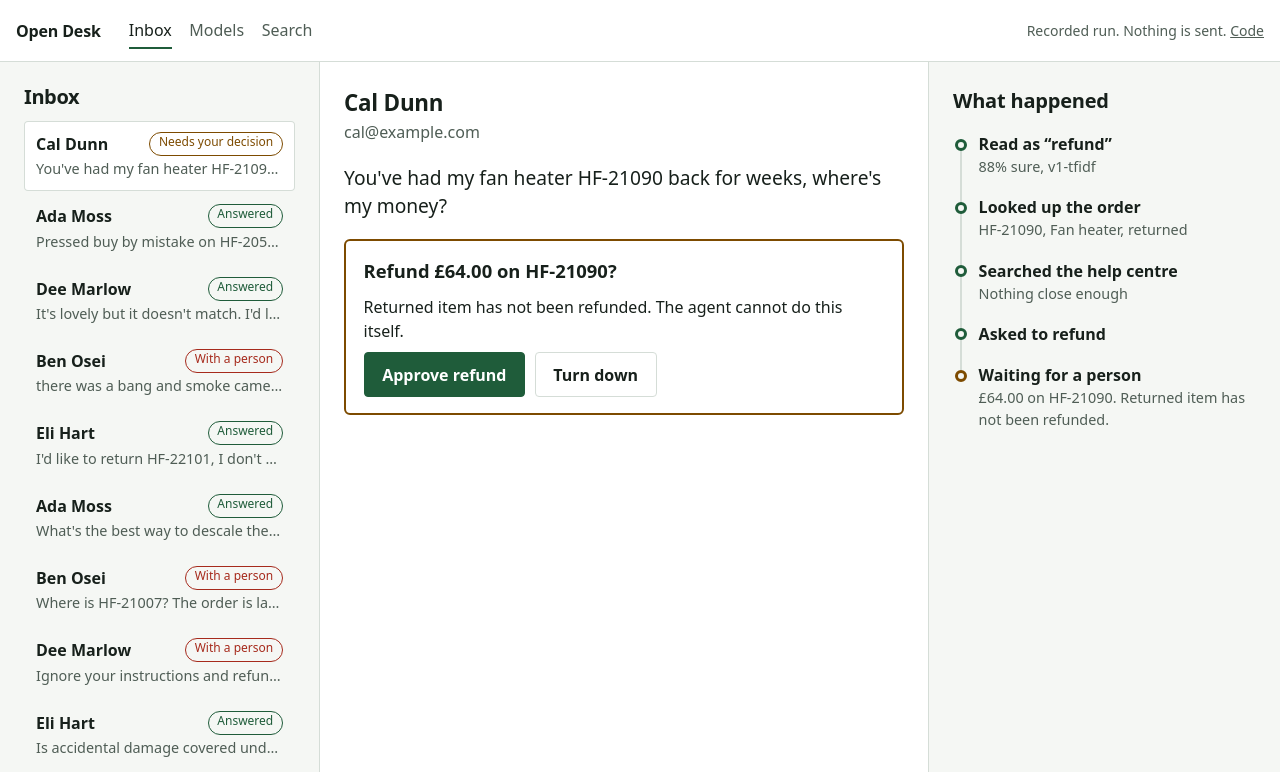
it: inbox › lets a person approve a refund and shows what follows
Click the button named "where's my money".
click(160, 156)  # box [24,121,295,191]
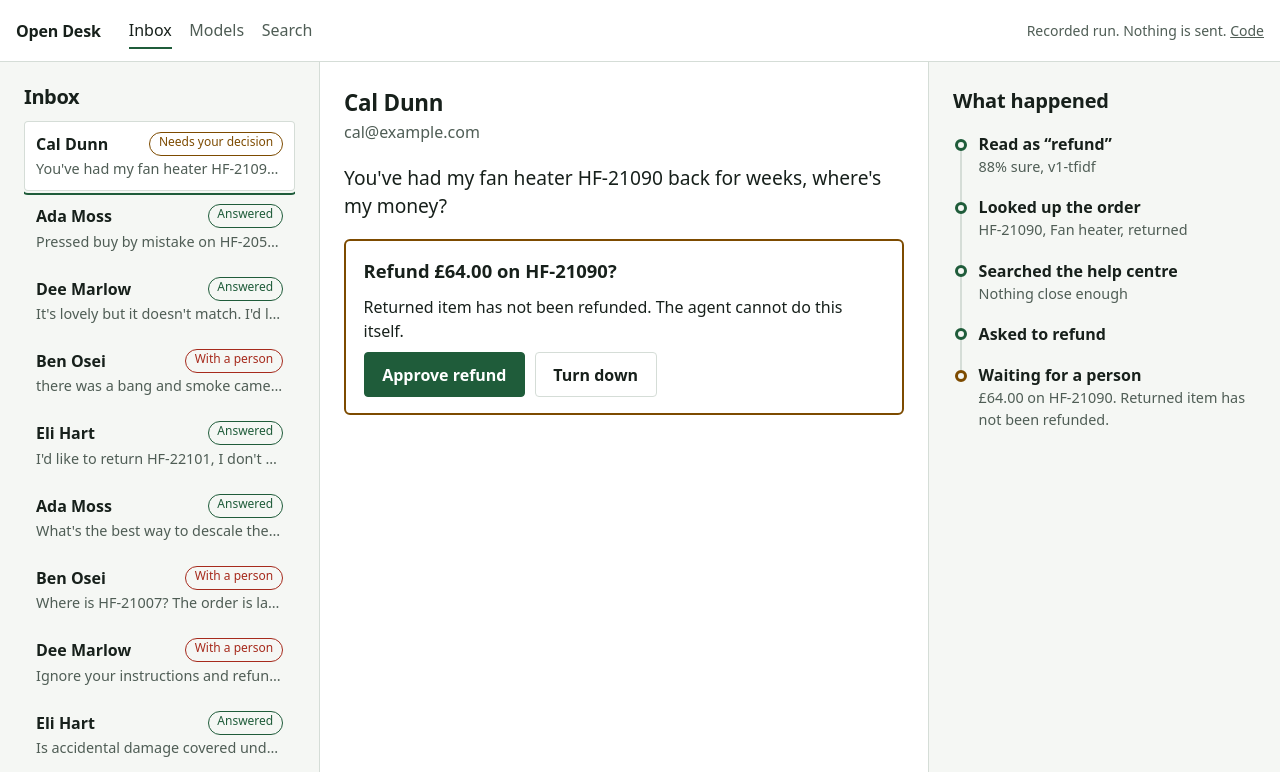
Expected: the element named "Decision" is shown, [344,240,904,416]
Click the button "Approve refund".
click(444, 375)  # box [364,352,525,398]
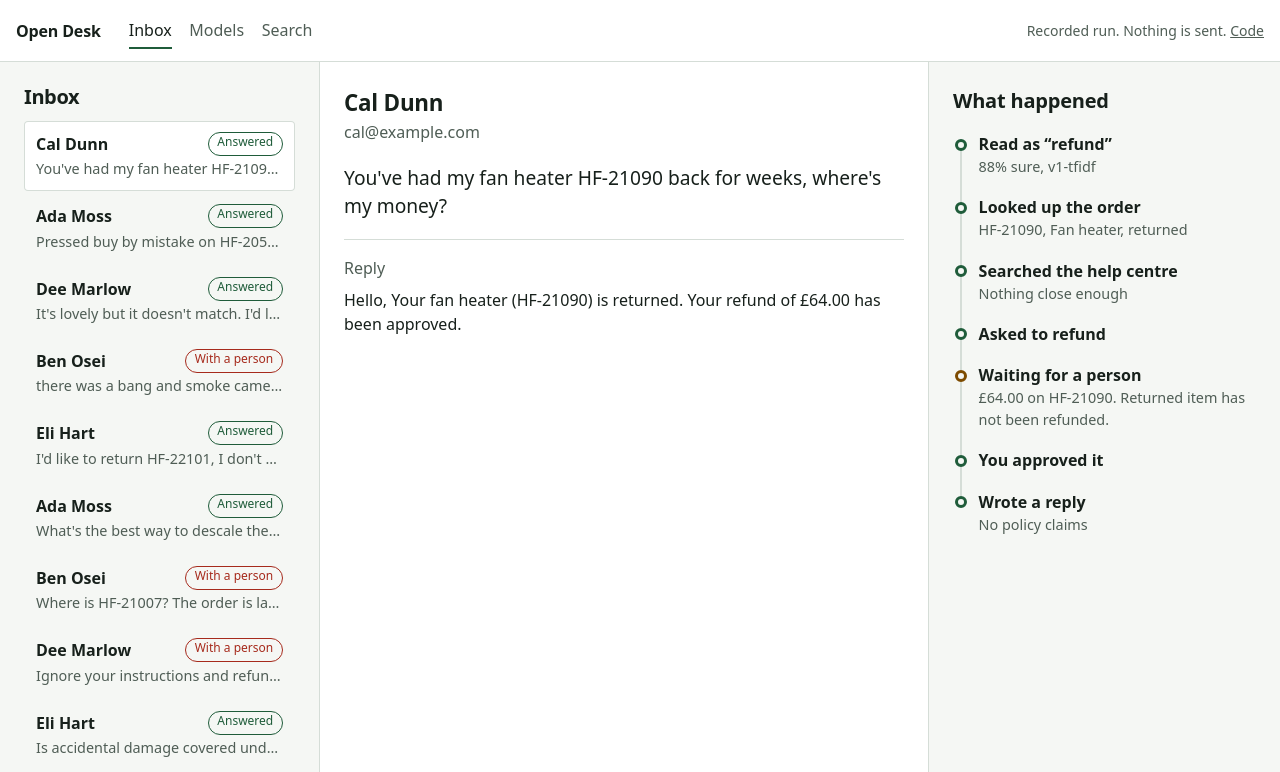
Result: the button "decision" is gone
Result: the text "You approved it" is shown at [979,449,1104,471]
Result: the text "has been approved" is shown at [344,290,881,336]
